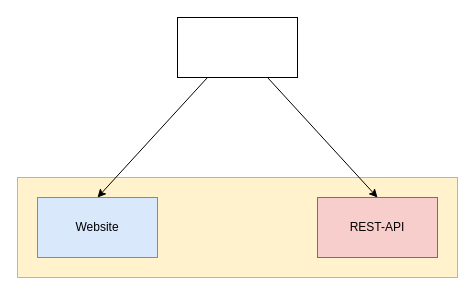
This 475x295 diagram has some shape labels left out. The shapes that lost their labels are listed below. From the top down, each one's box as (x1, y1, x2, y2) in pixels, then its label:
(176, 16, 298, 78): Client
(16, 176, 458, 278): Webserver
